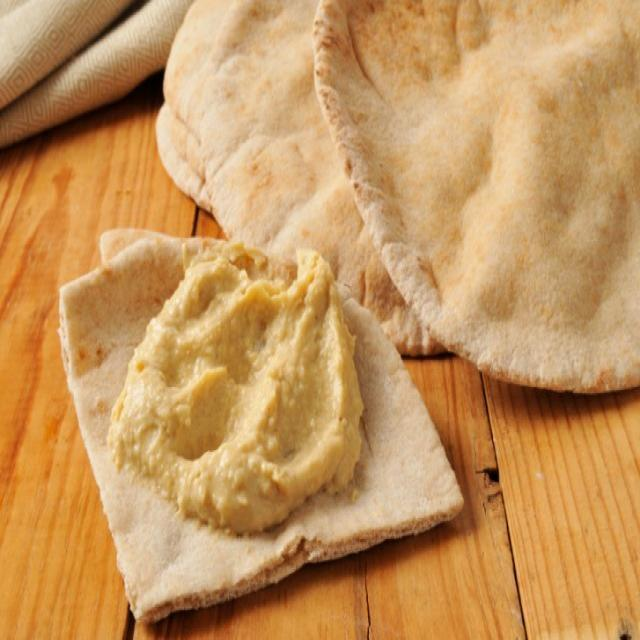pita: (311, 4, 640, 400), (63, 236, 442, 572)
